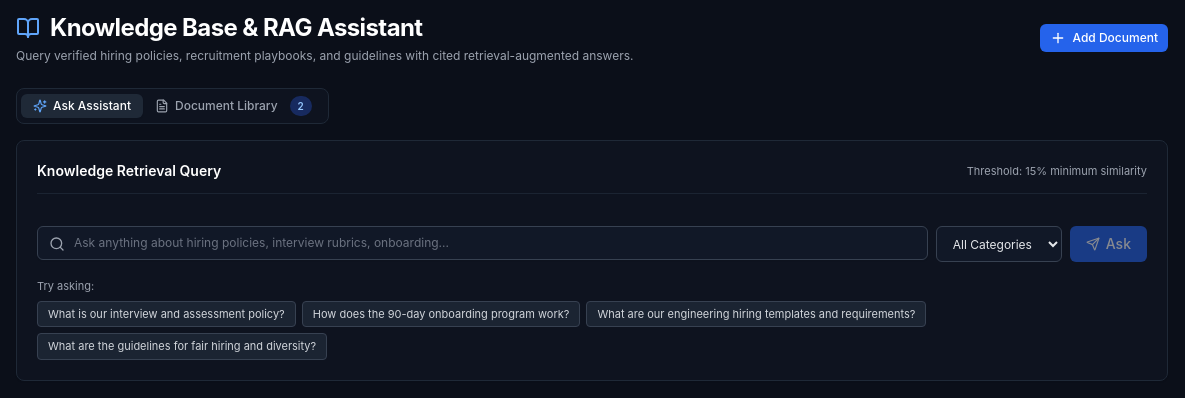
Test case: Knowledge Base & RAG Assistant UI (Task 14) › navigates to Document Library and lists organization documents
// Click Document Library tab
Click the button with test id "tab-library": [233, 106] box x1=143 y1=92 x2=324 y2=120
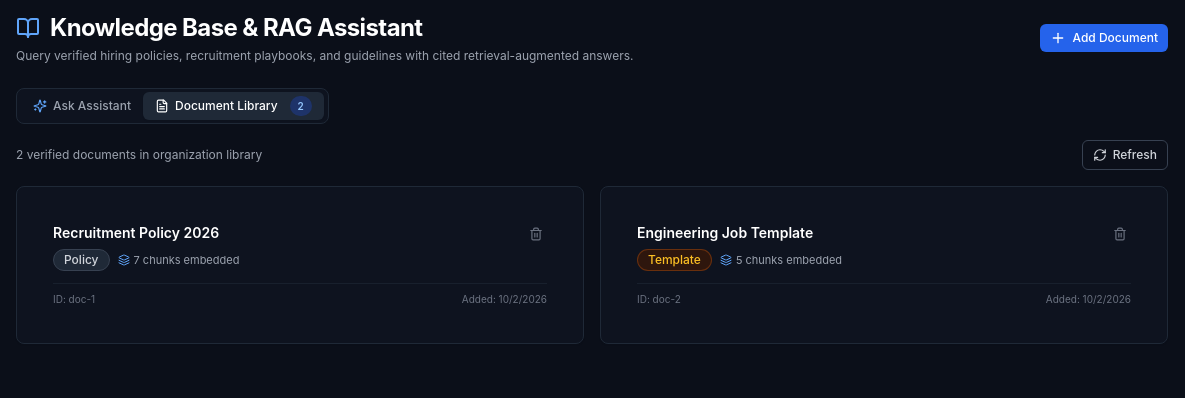
Check: the heading "Recruitment Policy 2026" is shown, box x1=53 y1=223 x2=239 y2=243
Check: the text "7 chunks embedded" is shown, box x1=118 y1=252 x2=239 y2=268
Check: the heading "Engineering Job Template" is shown, box x1=637 y1=223 x2=842 y2=243
